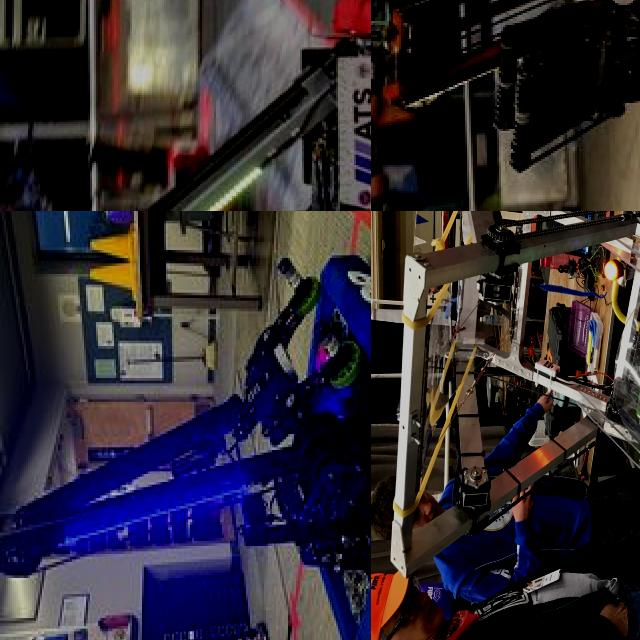FRC-Robots: (0, 232, 371, 640), (447, 211, 640, 599), (33, 0, 371, 211), (371, 0, 640, 210), (0, 57, 241, 211)
